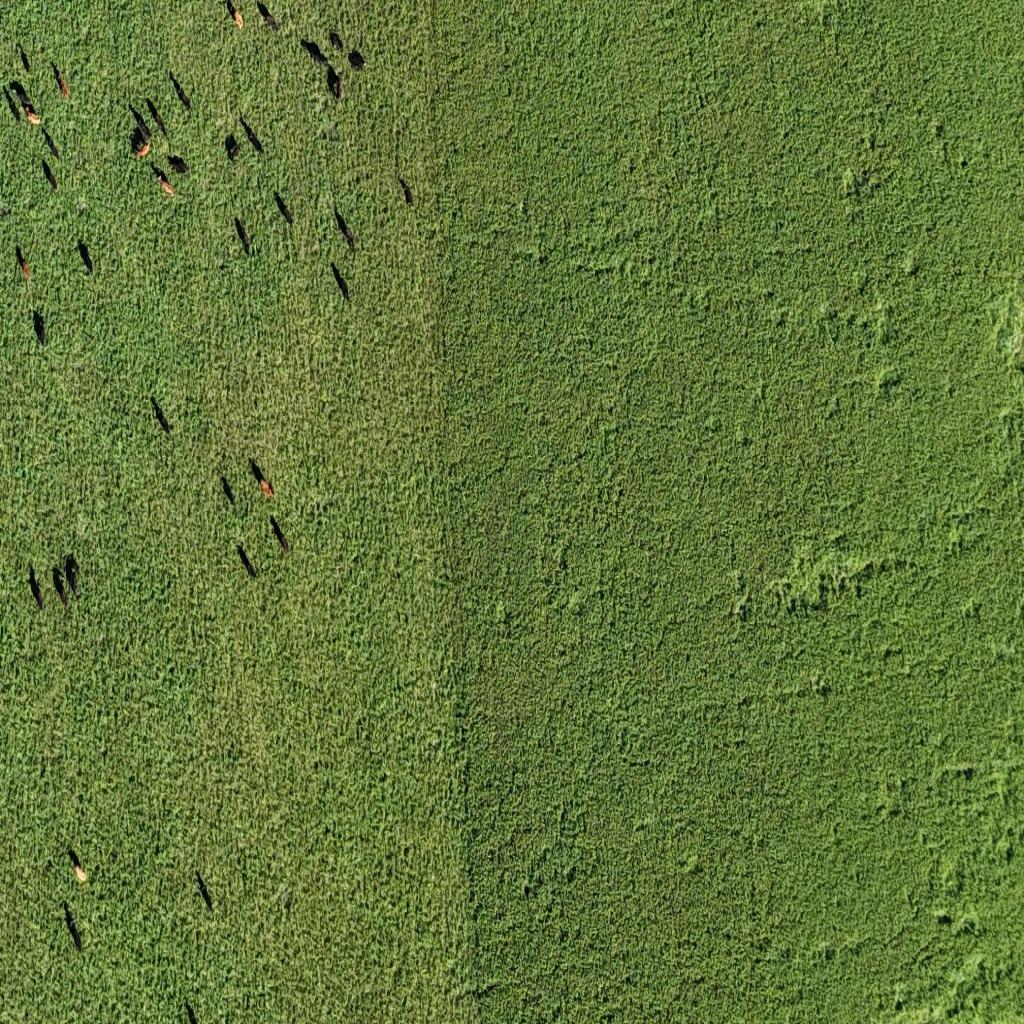cow: (334, 205, 356, 253), (249, 458, 275, 498), (63, 901, 82, 955), (269, 514, 291, 556), (27, 564, 45, 614), (170, 70, 191, 112), (241, 116, 263, 156), (146, 98, 166, 139), (151, 395, 171, 435), (68, 847, 88, 886), (129, 103, 151, 138), (275, 190, 295, 228), (257, 1, 280, 34), (332, 261, 350, 303), (52, 566, 69, 610), (237, 542, 257, 579), (221, 2, 244, 34), (65, 554, 81, 600), (234, 216, 252, 256), (130, 126, 151, 160), (154, 160, 176, 192), (301, 38, 326, 66), (196, 872, 213, 912), (5, 86, 22, 124), (14, 246, 30, 286), (11, 81, 32, 111), (397, 168, 413, 206), (78, 237, 94, 275), (42, 126, 59, 161), (53, 64, 70, 98), (43, 158, 58, 195), (225, 133, 241, 164), (167, 154, 189, 176), (222, 475, 236, 508), (34, 309, 46, 347), (330, 70, 344, 102), (20, 103, 38, 126), (184, 998, 199, 1024), (348, 49, 366, 70), (329, 32, 343, 54), (20, 45, 30, 75), (281, 889, 291, 911), (83, 24, 91, 47), (77, 198, 86, 213)
